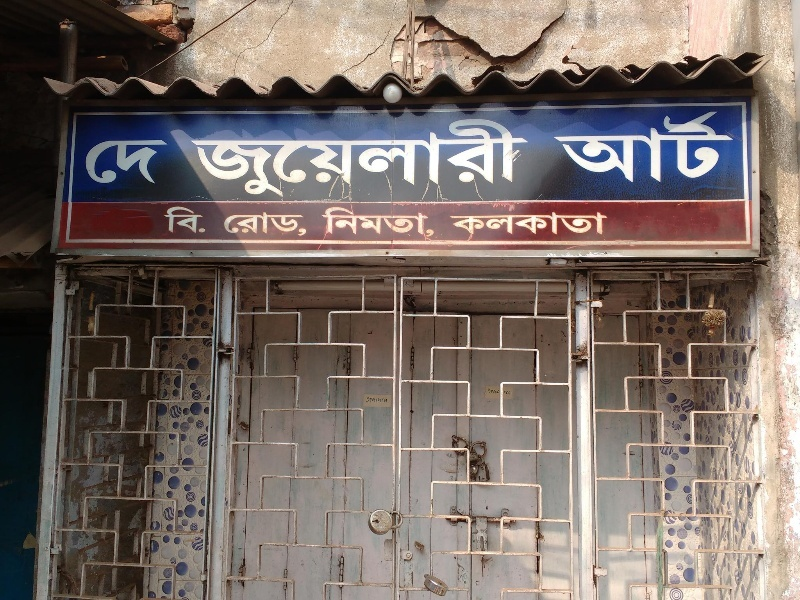text: (529, 113, 545, 199), (561, 107, 576, 194), (577, 107, 592, 194), (593, 107, 608, 194), (609, 107, 624, 194), (625, 107, 640, 194), (641, 107, 656, 194), (657, 107, 672, 194), (673, 107, 688, 194), (689, 107, 704, 194), (705, 107, 720, 194), (193, 113, 208, 199), (209, 113, 224, 199), (225, 113, 240, 199), (241, 113, 256, 199), (257, 113, 272, 199), (273, 113, 288, 199), (289, 113, 304, 199), (305, 113, 320, 199), (321, 113, 336, 199), (337, 113, 352, 199), (353, 113, 368, 199), (369, 113, 384, 199), (385, 113, 400, 199), (401, 113, 416, 199), (417, 113, 432, 199), (433, 113, 448, 199), (449, 113, 464, 199), (465, 113, 480, 199), (481, 113, 496, 199), (497, 113, 512, 199), (513, 113, 528, 199), (721, 107, 735, 194), (548, 107, 560, 194), (97, 136, 112, 194), (113, 136, 128, 194), (129, 136, 144, 194), (145, 136, 160, 194), (83, 136, 96, 194), (161, 136, 174, 194), (184, 113, 192, 199), (321, 204, 336, 243), (337, 204, 352, 243), (353, 204, 368, 243), (369, 204, 384, 243), (385, 204, 400, 243), (401, 204, 416, 243), (417, 204, 432, 243), (225, 205, 240, 242), (241, 205, 256, 242), (257, 205, 272, 242), (273, 205, 288, 242), (289, 205, 304, 242), (193, 204, 209, 238), (161, 204, 176, 238), (177, 204, 192, 238), (449, 210, 464, 241), (465, 210, 480, 241), (481, 210, 496, 241), (497, 210, 512, 241), (513, 210, 528, 241), (529, 210, 544, 241), (545, 210, 560, 241), (561, 210, 576, 241), (577, 210, 592, 241), (593, 210, 608, 241), (305, 205, 312, 242), (497, 384, 512, 397), (609, 210, 615, 241), (483, 384, 496, 397), (433, 204, 437, 243), (369, 395, 384, 405), (445, 210, 448, 241), (385, 395, 393, 405), (513, 384, 519, 397), (222, 205, 224, 242), (319, 204, 320, 243), (366, 395, 368, 405)
